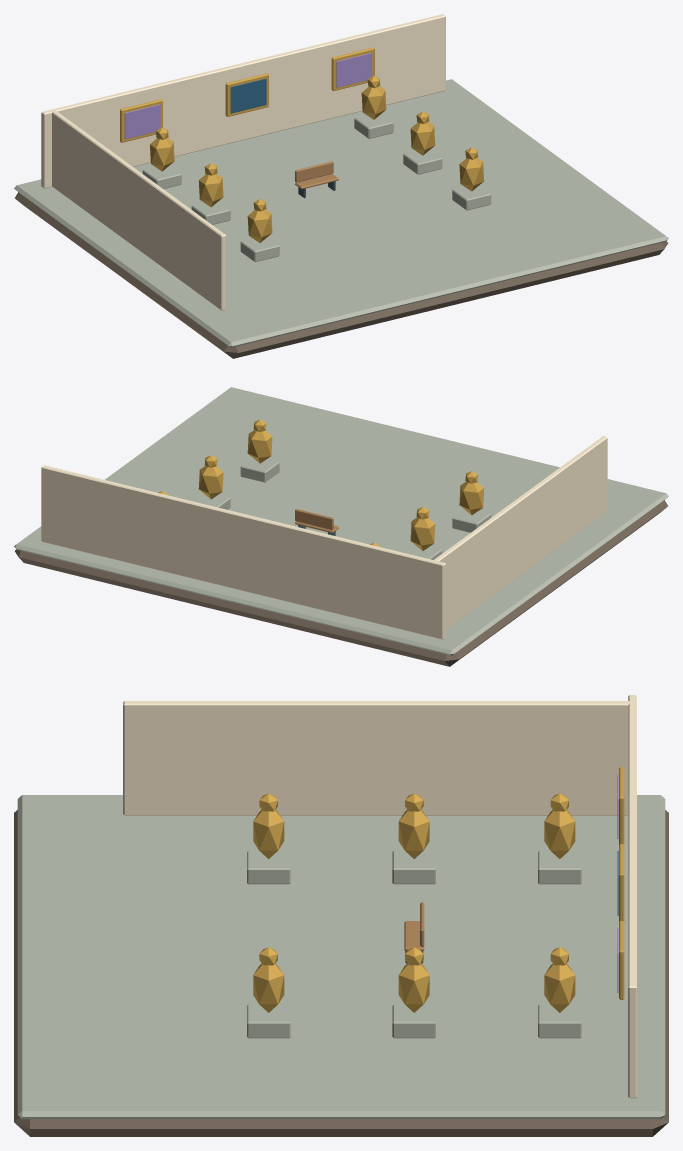
Rendered from world-museum.glb.
The picture shows the model from 3 angles, top to bottom: view 1: azimuth 30°, elevation 25°; view 2: azimuth 150°, elevation 25°; view 3: azimuth 270°, elevation 25°; orthographic projection. The views are drawn at different scales.
Parts seen in each view (by area): view 1: terrain-top, rear-wall, side-wall, terrain-stratum, artwork.001, artwork, artwork.002, plinth.006, plinth.004, plinth.005, plinth.001, sculpture.002 (+11 smaller); view 2: terrain-top, rear-wall, side-wall, terrain-stratum, plinth.004, sculpture.001, sculpture.005, sculpture.002, sculpture.004, plinth.001, bench-back.001; view 3: terrain-top, side-wall, terrain-stratum, rear-wall, plinth.006, plinth.004, plinth.005, plinth.001, plinth.002, plinth.003, sculpture.001, sculpture.002 (+4 smaller).
Boxes of the visible parts, x1,y1,x2,y2 form: terrain-top: [14, 79, 668, 347]; rear-wall: [41, 14, 445, 188]; side-wall: [52, 110, 226, 310]; terrain-stratum: [14, 192, 667, 358]; artwork.001: [230, 78, 266, 113]; artwork: [124, 104, 160, 139]; artwork.002: [336, 52, 372, 87]; plinth.006: [354, 114, 393, 138]; plinth.004: [452, 185, 491, 210]; plinth.005: [403, 149, 442, 174]; plinth.001: [240, 237, 279, 261]; sculpture.002: [198, 173, 223, 207]; terrain-top: [14, 387, 668, 655]; rear-wall: [41, 465, 445, 639]; side-wall: [433, 436, 607, 629]; terrain-stratum: [15, 500, 667, 666]; plinth.004: [240, 457, 279, 482]; sculpture.001: [459, 481, 484, 515]; sculpture.005: [198, 465, 223, 499]; sculpture.002: [410, 517, 435, 550]; sculpture.004: [247, 430, 272, 463]; plinth.001: [452, 509, 491, 532]; bench-back.001: [295, 509, 333, 530]; terrain-top: [17, 795, 665, 1119]; side-wall: [123, 701, 630, 815]; terrain-stratum: [14, 810, 668, 1136]; rear-wall: [628, 695, 636, 1098]; plinth.006: [538, 1004, 581, 1038]; plinth.004: [247, 1004, 290, 1038]; plinth.005: [392, 1004, 435, 1038]; plinth.001: [247, 850, 290, 884]; plinth.002: [392, 850, 435, 884]; plinth.003: [538, 850, 581, 884]; sculpture.001: [253, 810, 284, 859]; sculpture.002: [398, 810, 429, 859].
Bounding box in the file's own units: 21 × 4.29 × 18.
